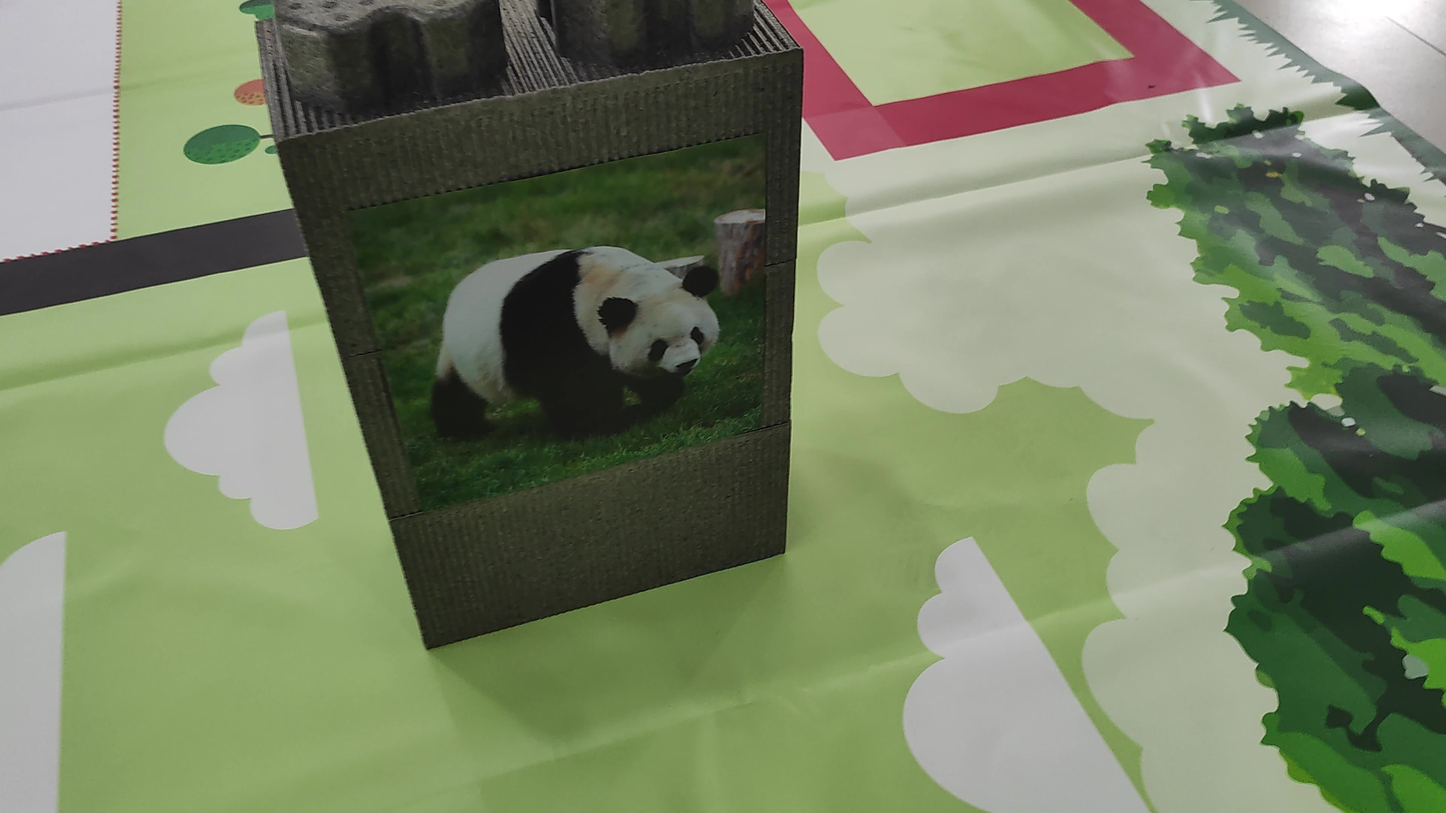panda: (398, 201, 734, 454)
